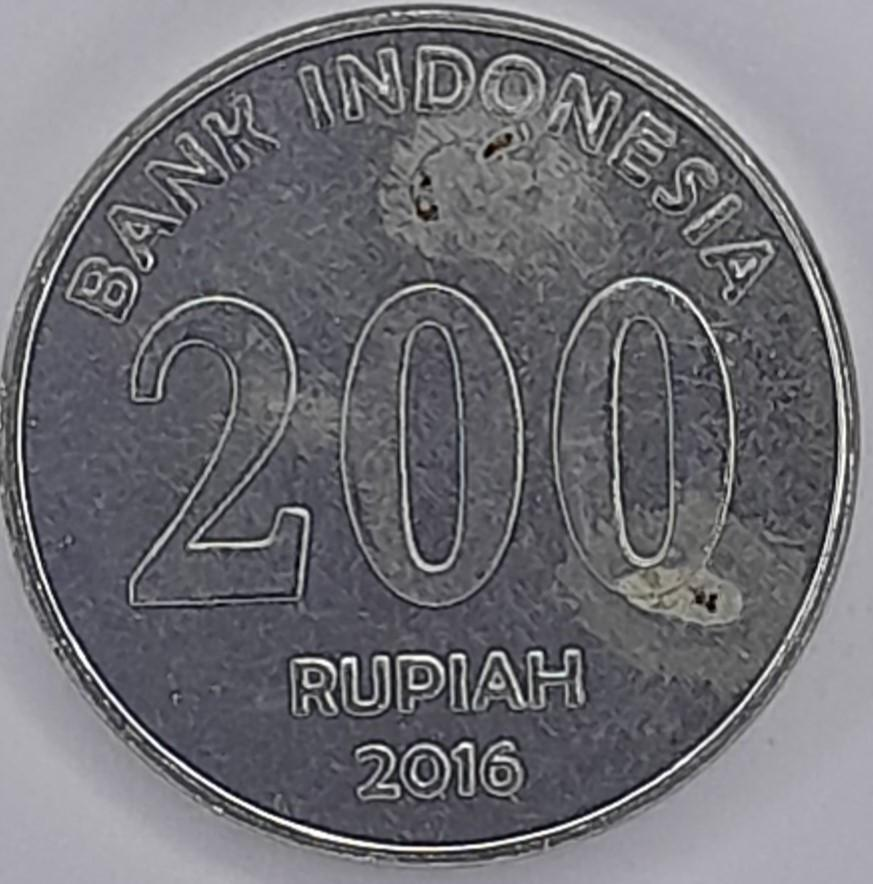coin_200_e2016: (0, 15, 873, 884)
